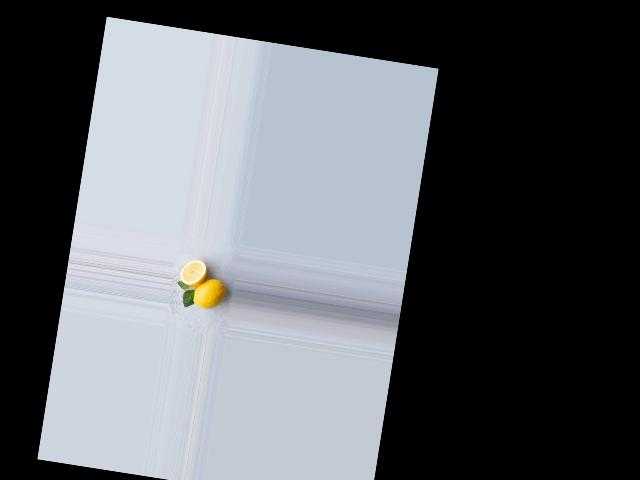lemon: (189, 276, 228, 314)
